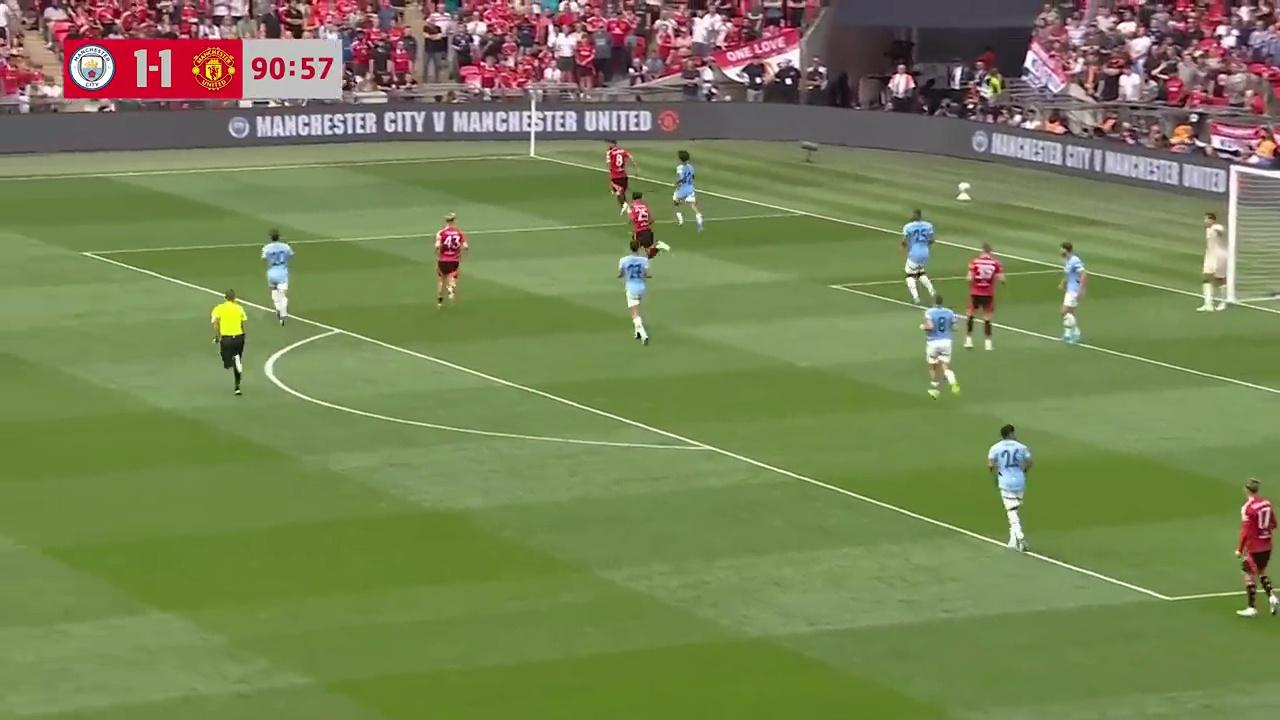player: (1232, 479, 1278, 618), (987, 422, 1032, 552), (964, 242, 1006, 352), (919, 294, 961, 399), (616, 240, 651, 344), (899, 208, 937, 298), (433, 212, 468, 309), (1198, 211, 1231, 312), (260, 229, 294, 325), (1056, 242, 1087, 345), (625, 192, 669, 262), (671, 151, 704, 230), (605, 141, 635, 214)
referee: (209, 289, 249, 396)
